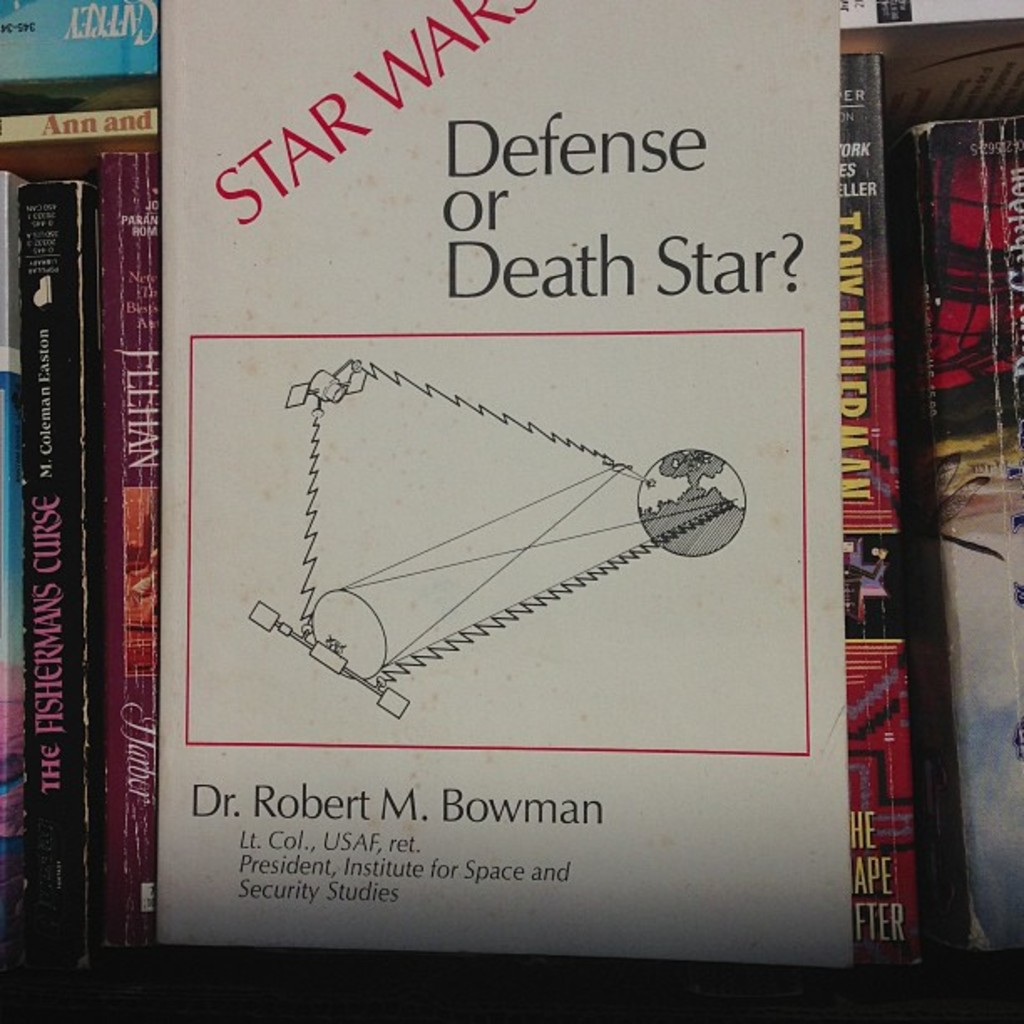Book: (44, 0, 996, 1024)
